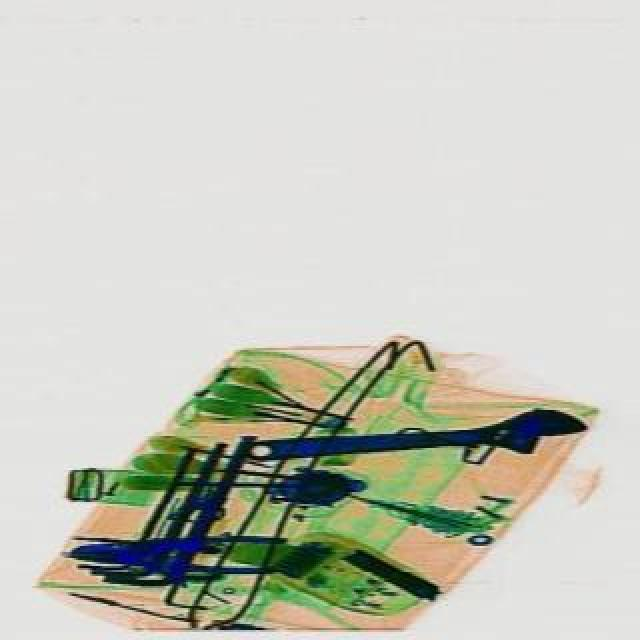scissors: (242, 402, 584, 474)
wrench: (70, 530, 282, 574)
